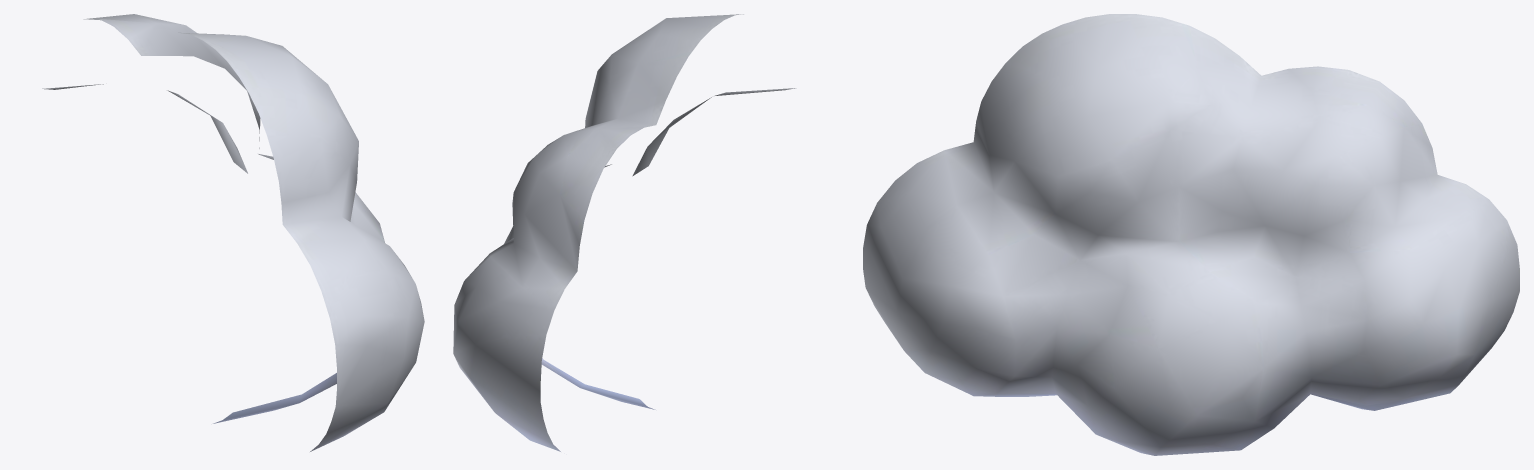
The model's file is cloud.glb.
3 renders of one model, left to right at view 1: azimuth 30°, elevation 25°; view 2: azimuth 150°, elevation 25°; view 3: azimuth 270°, elevation 25°, orthographic. The views are drawn at different scales.
Parts seen in each view (by area): view 1: tripo_node_d885c5d5-7df0-4970-972e-f38652b9b87c; view 2: tripo_node_d885c5d5-7df0-4970-972e-f38652b9b87c; view 3: tripo_node_d885c5d5-7df0-4970-972e-f38652b9b87c.
Part boxes in pixels (left/top/right/bottom): tripo_node_d885c5d5-7df0-4970-972e-f38652b9b87c: left=42, top=14, right=424, bottom=451; tripo_node_d885c5d5-7df0-4970-972e-f38652b9b87c: left=453, top=14, right=796, bottom=451; tripo_node_d885c5d5-7df0-4970-972e-f38652b9b87c: left=863, top=14, right=1519, bottom=455.
Size of the model in its own units: 0.3496 by 0.666 by 0.998.
Materials: 1 (1 with a texture image).
